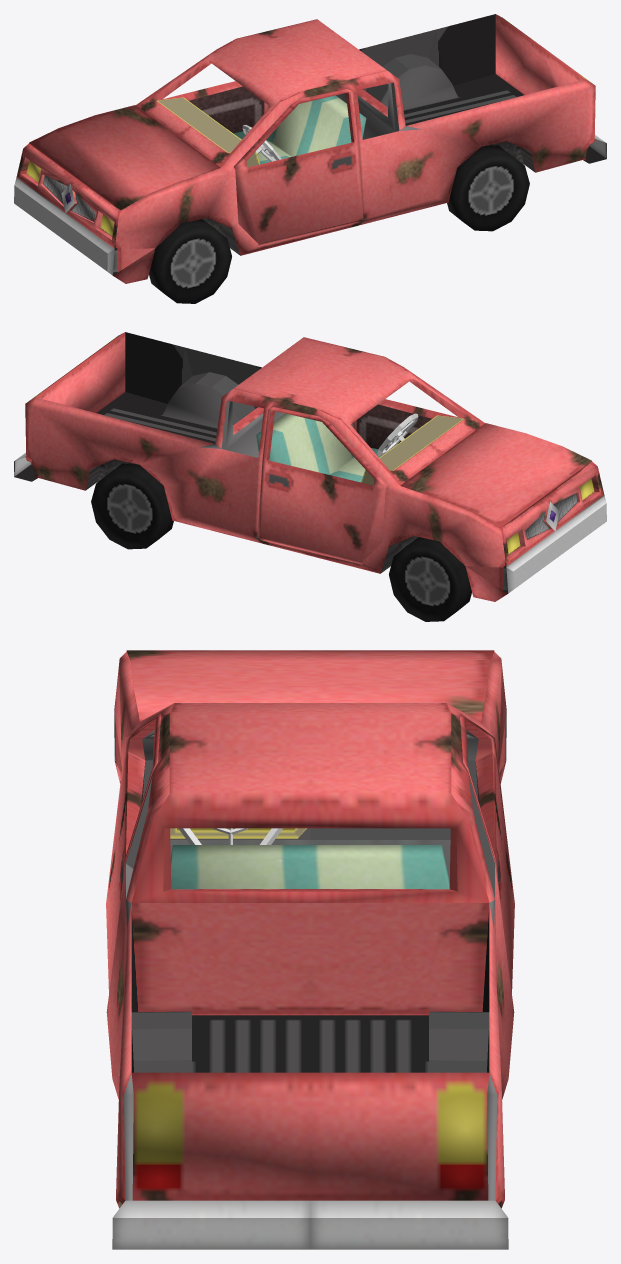
The model's file is truck.fbx.
3 renders of one model, top to bottom at view 1: azimuth 30°, elevation 25°; view 2: azimuth 150°, elevation 25°; view 3: azimuth 270°, elevation 25°, orthographic. The views are drawn at different scales.
Parts seen in each view (by area): view 1: Frame, DoorLeft, Cover, WheelsBack, WheelsFront, Seat, Backdoor, DoorRight, Cube; view 2: Frame, DoorRight, Cover, WheelsBack, WheelsFront, Seat, Backdoor, DoorLeft, Cube, Steering; view 3: Frame, Backdoor, Cover, Seat, DoorRight, DoorLeft, Cube.
Boxes of the visible parts, box(x1,y1,x2,y2) form: Frame: box(14, 14, 606, 283); DoorLeft: box(233, 89, 363, 246); Cover: box(29, 105, 220, 209); WheelsBack: box(447, 145, 529, 231); WheelsFront: box(149, 219, 231, 303); Seat: box(233, 95, 366, 164); Backdoor: box(495, 14, 591, 94); DoorRight: box(162, 81, 269, 133); Cube: box(157, 97, 259, 167); Frame: box(14, 332, 606, 601); DoorRight: box(257, 407, 387, 564); Cover: box(400, 423, 591, 527); WheelsBack: box(91, 463, 173, 549); WheelsFront: box(389, 537, 471, 621); Seat: box(256, 413, 380, 482); Backdoor: box(29, 332, 125, 412); DoorLeft: box(352, 399, 458, 449); Cube: box(361, 415, 463, 485); Steering: box(377, 413, 418, 456); Frame: box(106, 651, 514, 1249); Backdoor: box(131, 1072, 489, 1200); Cover: box(126, 650, 494, 721); Seat: box(170, 845, 449, 889); DoorRight: box(460, 713, 514, 992); DoorLeft: box(106, 713, 160, 992); Cube: box(170, 828, 306, 838).
Size of the model in its own units: 5.43 by 1.82 by 1.94.
